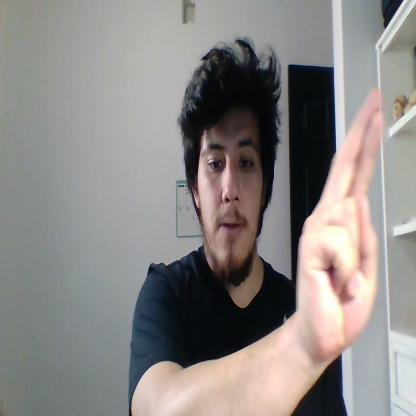R: (296, 90, 384, 353)
